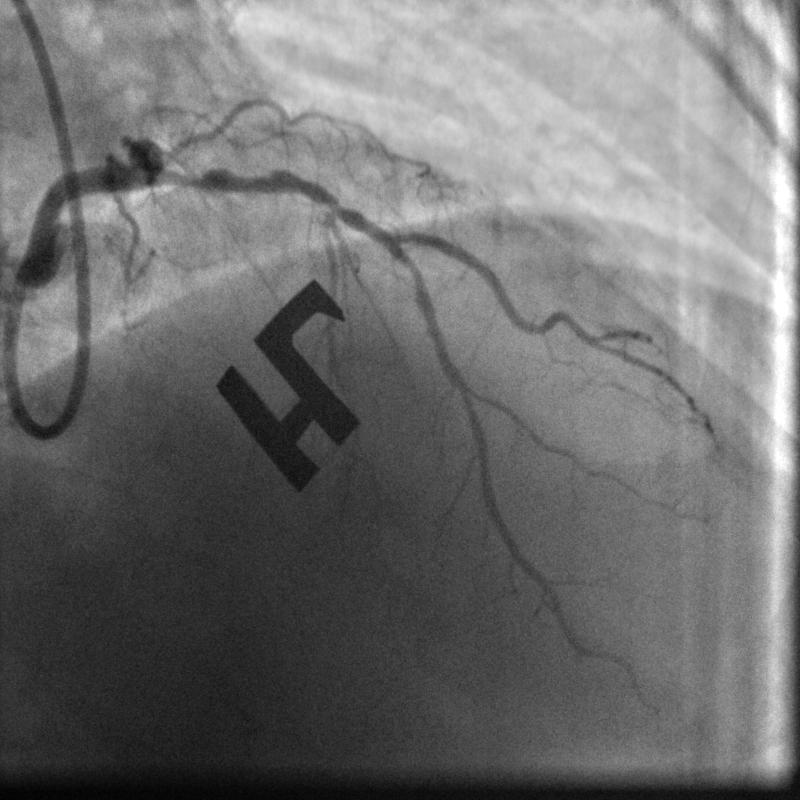Stenosis: (175, 162, 273, 194)
